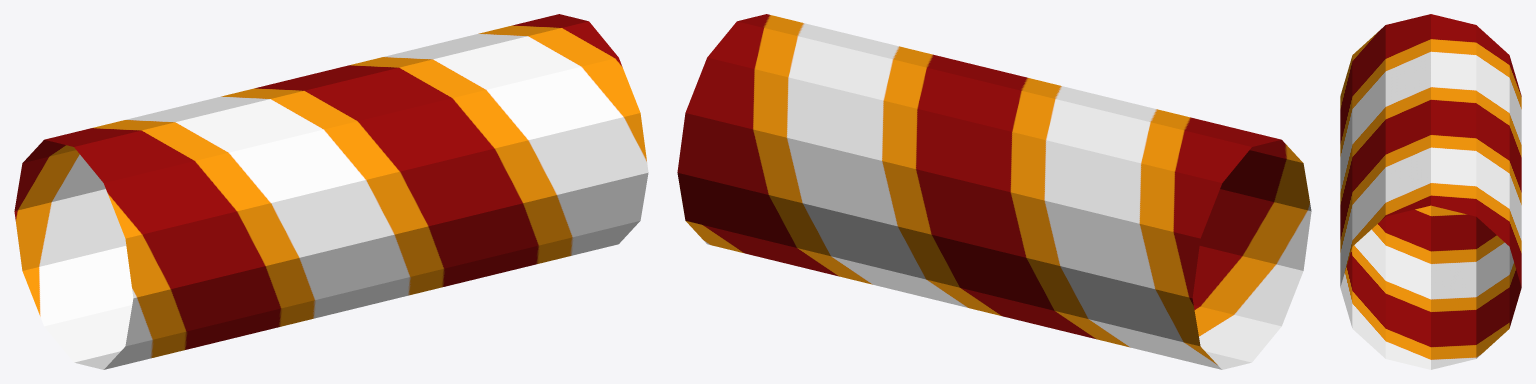
The picture shows the model from 3 angles, left to right: view 1: azimuth 30°, elevation 25°; view 2: azimuth 150°, elevation 25°; view 3: azimuth 270°, elevation 25°; orthographic projection. The views are drawn at different scales.
Parts seen in each view (by area): view 1: Cylinder; view 2: Cylinder; view 3: Cylinder.
Part boxes in pixels (bbox=[...]): Cylinder: bbox=[14, 14, 648, 369]; Cylinder: bbox=[677, 14, 1311, 369]; Cylinder: bbox=[1340, 14, 1521, 369].
Bounding box in the file's own units: 500 × 200 × 200.
